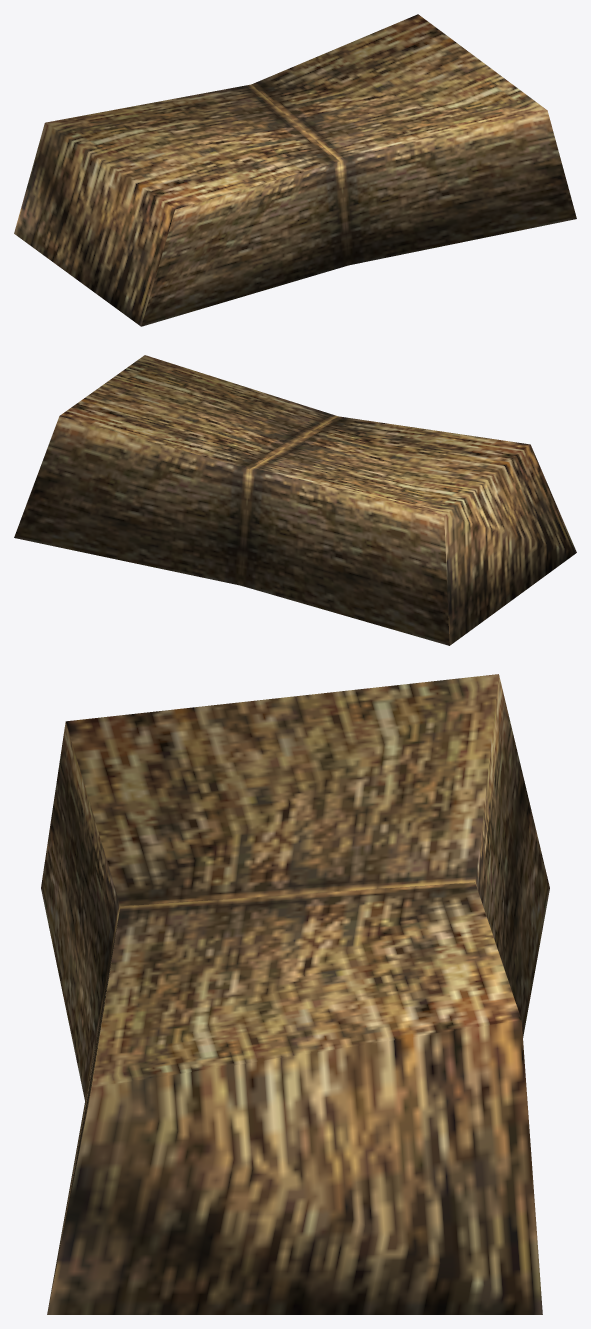
Rendered from hay_01.glb.
3 views of the same model, one above another, from view 1: azimuth 30°, elevation 25°; view 2: azimuth 150°, elevation 25°; view 3: azimuth 270°, elevation 25° (orthographic). The views are drawn at different scales.
Parts seen in each view (by area): view 1: Hay_01; view 2: Hay_01; view 3: Hay_01.
Boxes of the visible parts, bbox=[...] form: Hay_01: bbox=[14, 14, 576, 326]; Hay_01: bbox=[14, 355, 576, 645]; Hay_01: bbox=[41, 674, 549, 1314].
Bounding box in the file's own units: 1.54 × 0.43 × 0.7764.
Materials: 1 (1 with a texture image).
